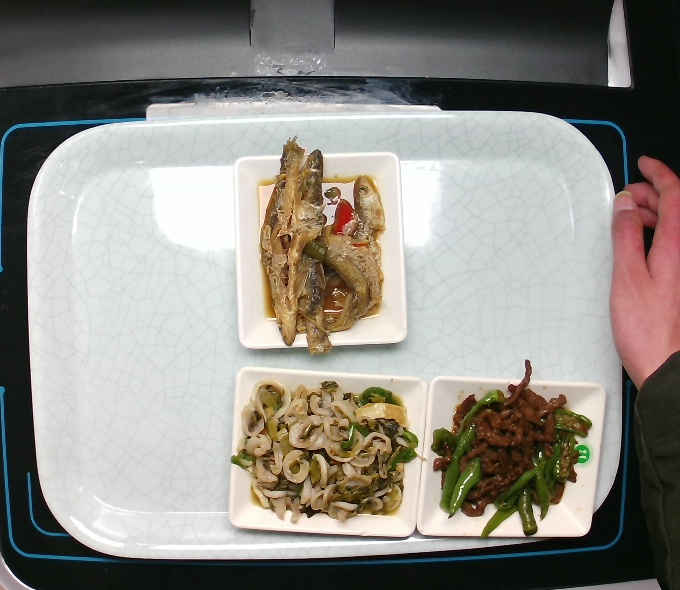wcq-QingJiaoNiuRou: (426, 355, 594, 546)
wcq-XiaoXiYu: (255, 133, 391, 361)
wcq-XueCaiYouYu: (223, 373, 430, 524)
